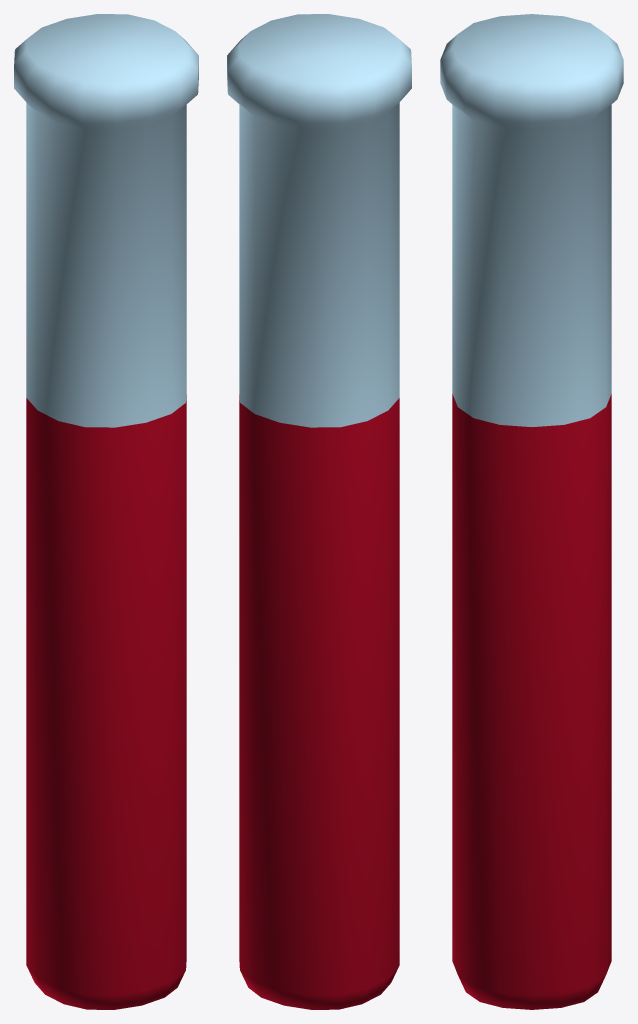
The model's file is Red flask tube.fbx.
3 views of the same model, side by side, from view 1: azimuth 30°, elevation 25°; view 2: azimuth 150°, elevation 25°; view 3: azimuth 270°, elevation 25° (orthographic).
Parts seen in each view (by area): view 1: Red flask tube; view 2: Red flask tube; view 3: Red flask tube.
Part boxes in pixels (x1,y1,x2,y2): Red flask tube: (14, 14, 198, 1009); Red flask tube: (227, 14, 411, 1009); Red flask tube: (440, 14, 623, 1009).
Size of the model in its own units: 5.49 by 31.09 by 5.49.
